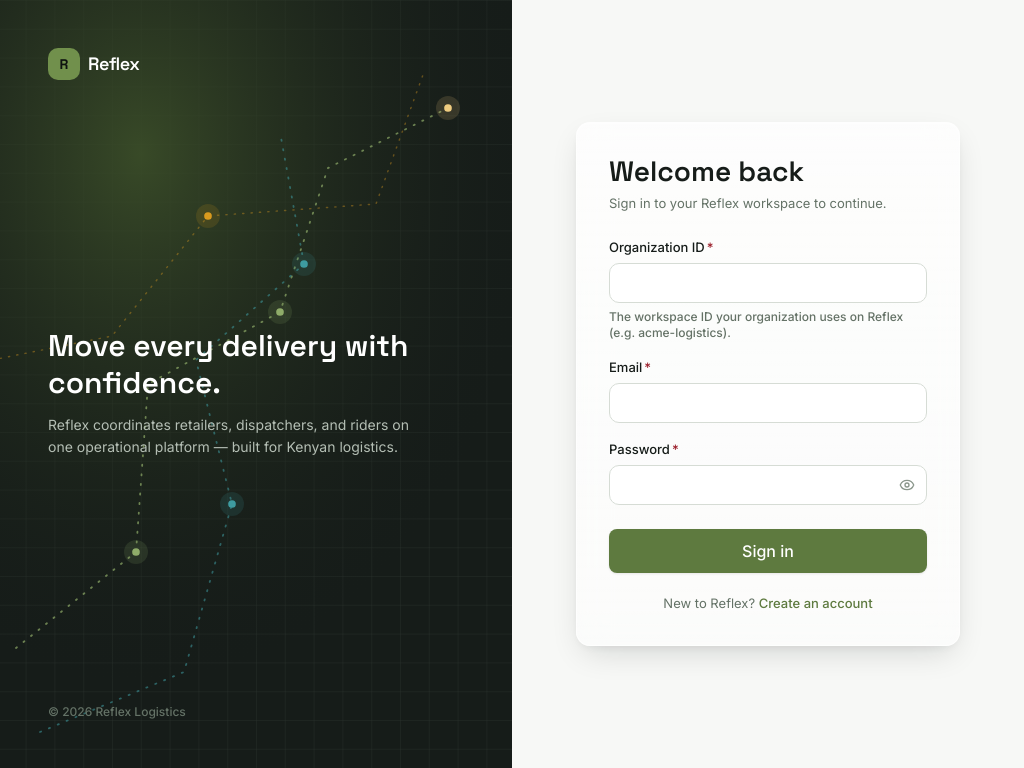
it: LoginPage › toggles password visibility via the show/hide control
Expected: the heading "Welcome back" is shown, [609,153,804,189]
Click the button named "show password" at (907, 485), box [893,471,921,499]
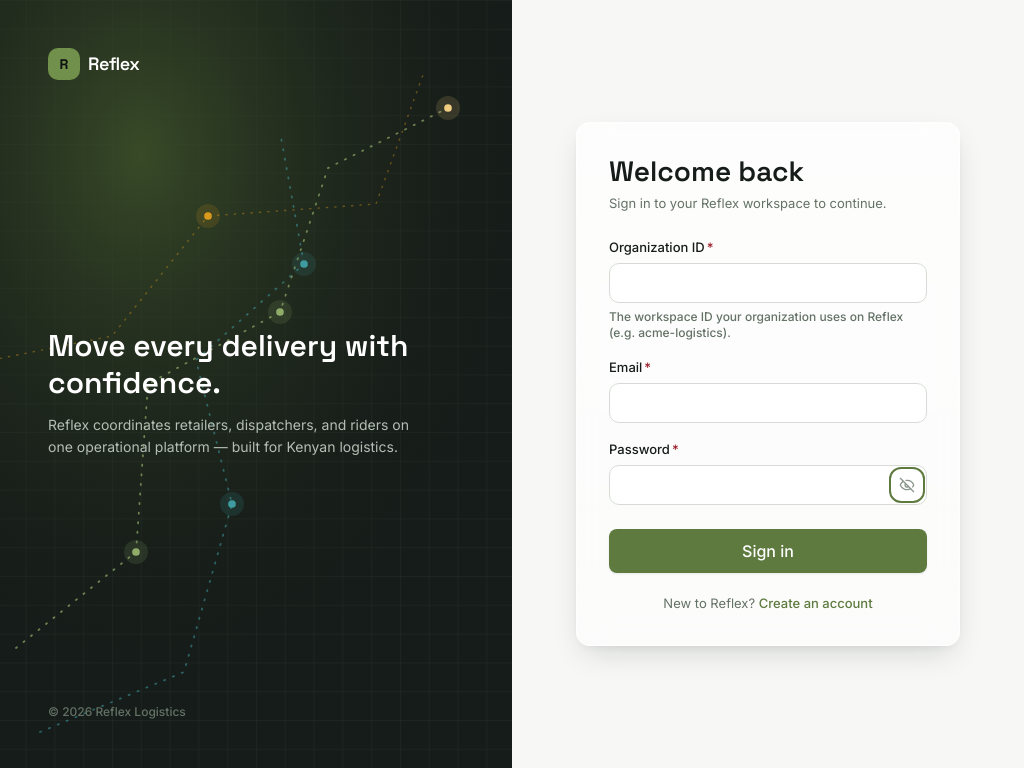
Now the button named "hide password" is shown, box [893,471,921,499]
